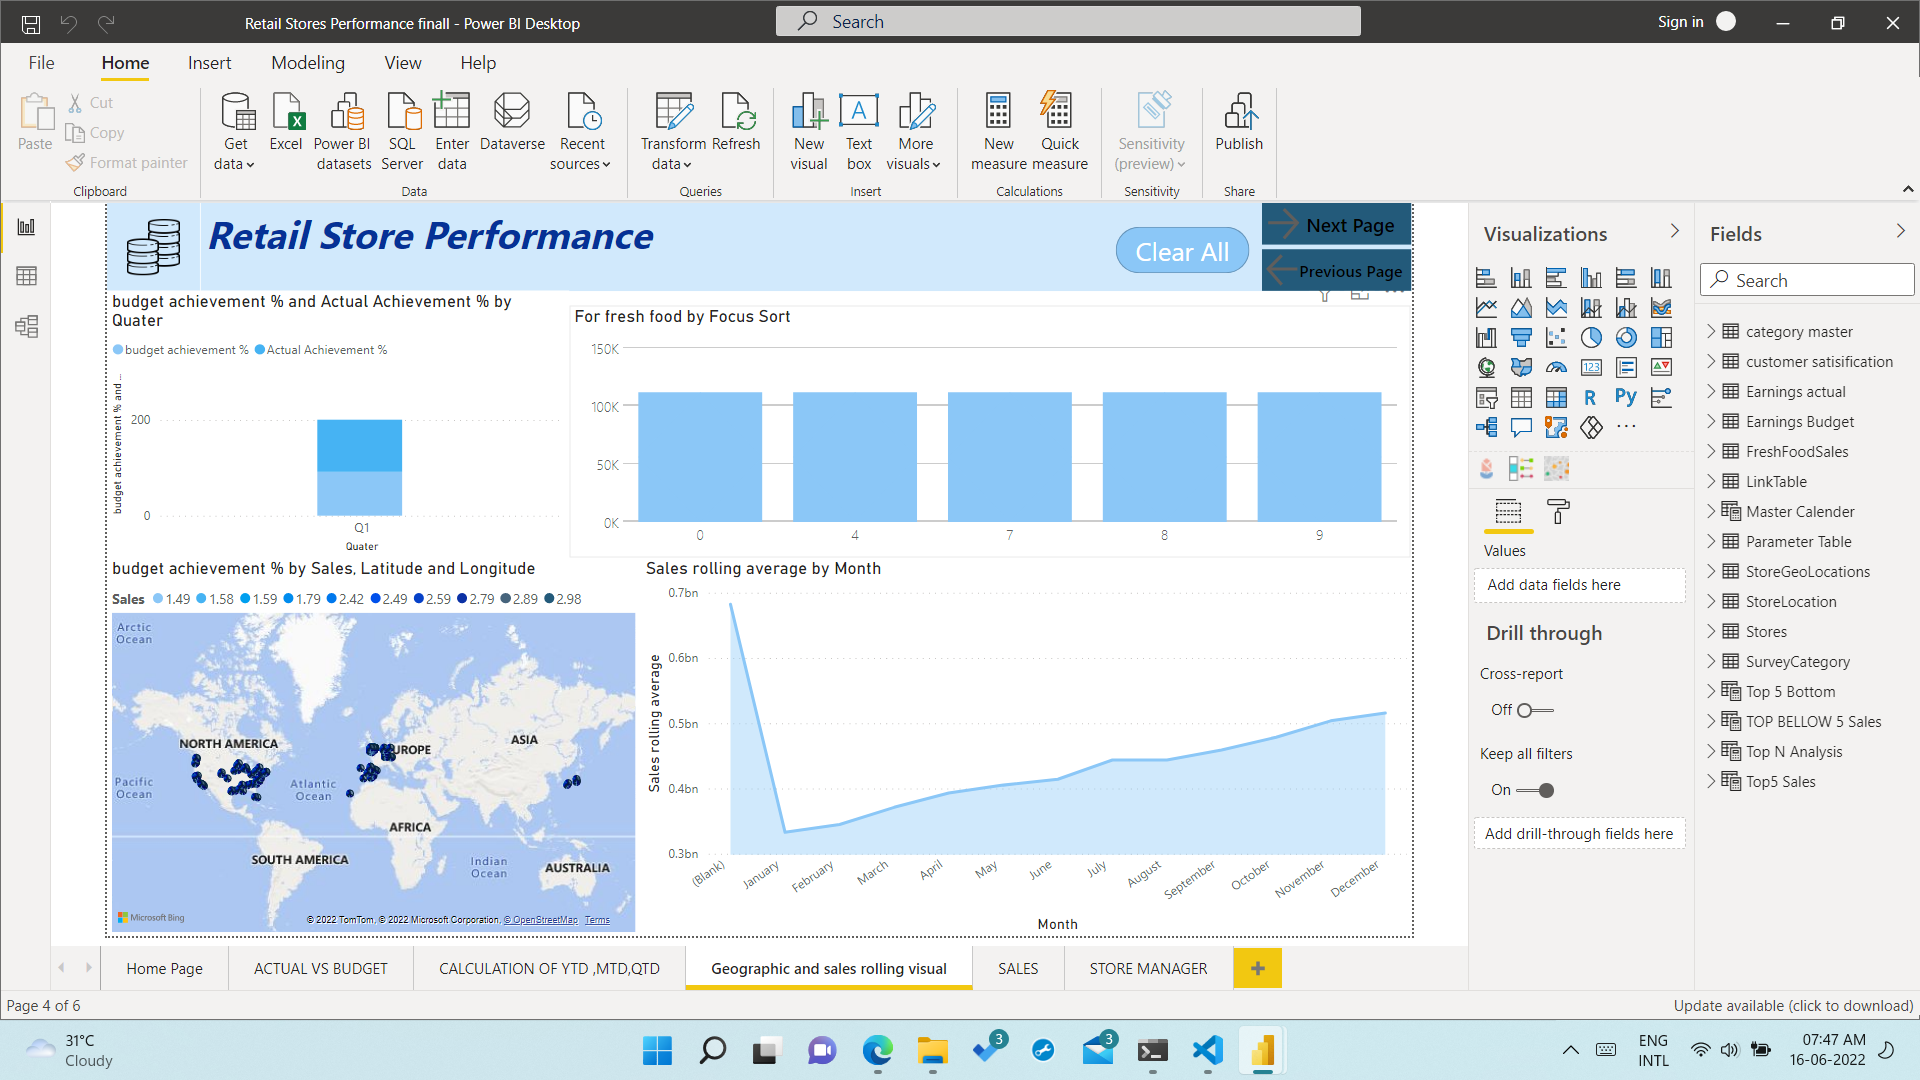

This screenshot's page, from the dashboard's own definition file:
{"tool":"powerbi","page":{"name":"Geographic and sales rolling visual","canvas":[1280,720],"ordinal":3},"visuals":[{"type":"image","box":[0,0,91.5,86.7],"z":0},{"type":"textbox","box":[91.5,0,1188.1,86.7],"z":1000},{"type":"map","fields":{"Size":["Earnings Budget.budget achievement %"],"Y":["StoreGeoLocations.Latitude"],"X":["StoreGeoLocations.Longitude"],"Series":["FreshFoodSales.Sales"]},"box":[0,348,523.6,372],"z":3000},{"type":"columnChart","fields":{"Y":["Earnings Budget.budget achievement %","Earnings actual.Actual Achievement %"],"Category":["Master Calender.Quater"]},"box":[0,86.2,453.4,261.8],"z":4000},{"type":"areaChart","fields":{"Y":["Earnings Budget.Sales rolling average"],"Category":["Master Calender.Date.Variation.Date Hierarchy.Month"]},"box":[523.6,348,756.7,372],"z":5000},{"type":"PBI_CV_73744D90_4DC9_4F18_8BA5_EE8FA5C98035","fields":{"Category":["SurveyCategory.Focus Sort"],"Values":["FreshFoodSales.For fresh food"]},"box":[453.4,100.6,825.4,247.5],"z":6000},{"type":"actionButton","box":[1133.1,46,146,40.6],"z":7000},{"type":"actionButton","box":[1133.1,0,146,40.6],"z":8000},{"type":"shape","box":[989.7,23,131.2,46],"z":9000}]}

Visuals, with their boxes on the page's 1280x720 design canvas (x1, y1, x2, y2). These are canvas units, not pixel positions in the 1920x1080 screenshot, which may show the page scaled, cropped or inside an application window:
image: [x1=0, y1=0, x2=92, y2=87]
textbox: [x1=92, y1=0, x2=1280, y2=87]
map - Earnings Budget.budget achievement % x StoreGeoLocations.Latitude: [x1=0, y1=348, x2=524, y2=720]
columnChart - Earnings Budget.budget achievement % x Earnings actual.Actual Achievement %: [x1=0, y1=86, x2=453, y2=348]
areaChart - Earnings Budget.Sales rolling average x Master Calender.Date.Variation.Date Hierarchy.Month: [x1=524, y1=348, x2=1280, y2=720]
PBI_CV_73744D90_4DC9_4F18_8BA5_EE8FA5C98035 - SurveyCategory.Focus Sort x FreshFoodSales.For fresh food: [x1=453, y1=101, x2=1279, y2=348]
actionButton: [x1=1133, y1=46, x2=1279, y2=87]
actionButton: [x1=1133, y1=0, x2=1279, y2=41]
shape: [x1=990, y1=23, x2=1121, y2=69]
